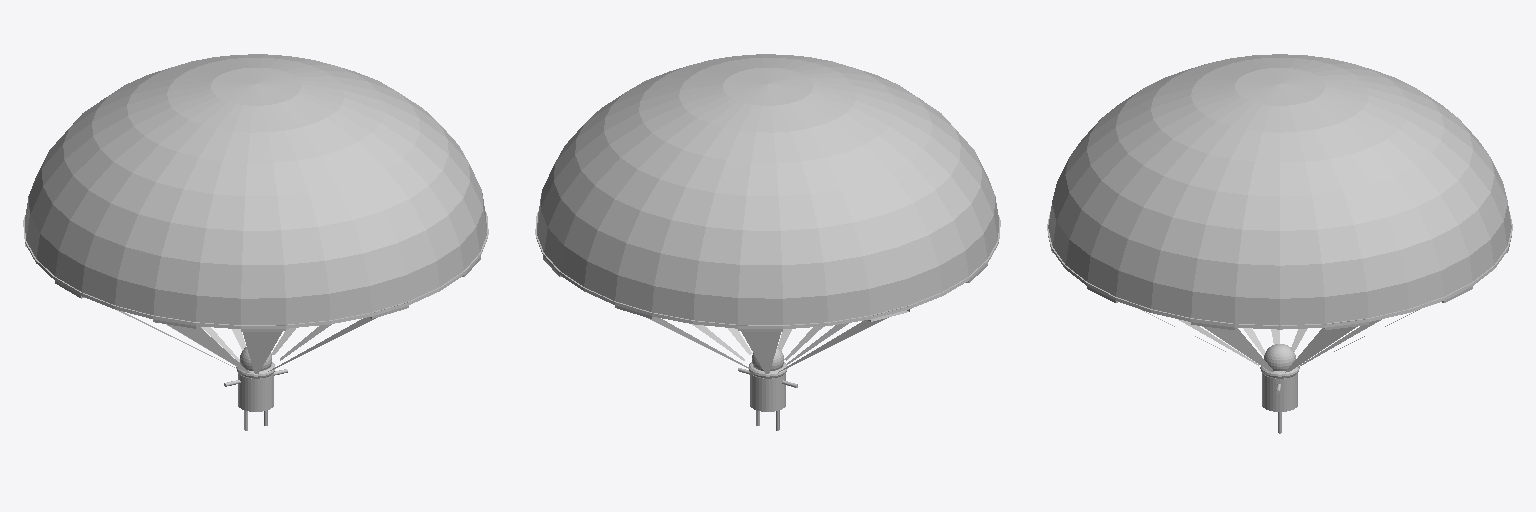
Rendered from parachutev1.obj.
3 renders of one model, left to right at view 1: azimuth 30°, elevation 25°; view 2: azimuth 150°, elevation 25°; view 3: azimuth 270°, elevation 25°, orthographic.
Parts seen in each view (by area): view 1: Torus; view 2: Torus; view 3: Torus.
Boxes of the visible parts, <box> form: Torus: <box>23,54,488,430</box>; Torus: <box>535,54,1000,430</box>; Torus: <box>1047,54,1512,433</box>.
Bounding box in the file's own units: 4.86 × 3.95 × 4.86.